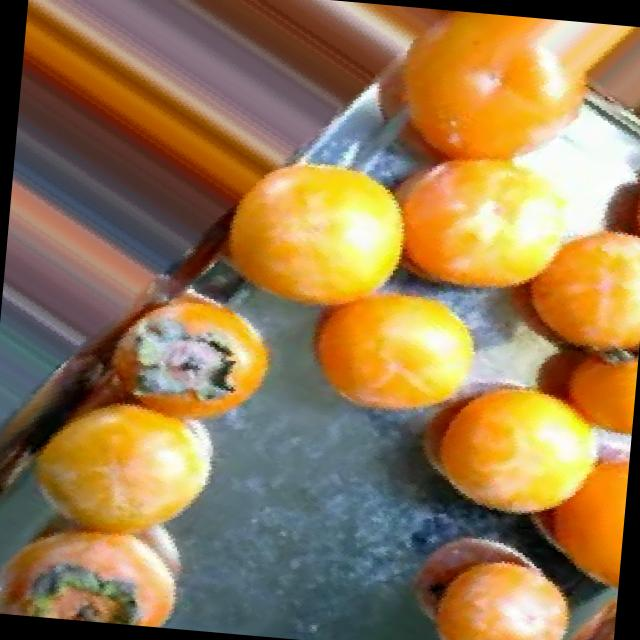Fruit: (271, 264, 505, 442), (375, 504, 611, 640), (498, 427, 631, 605), (529, 18, 640, 162), (591, 122, 640, 266)
